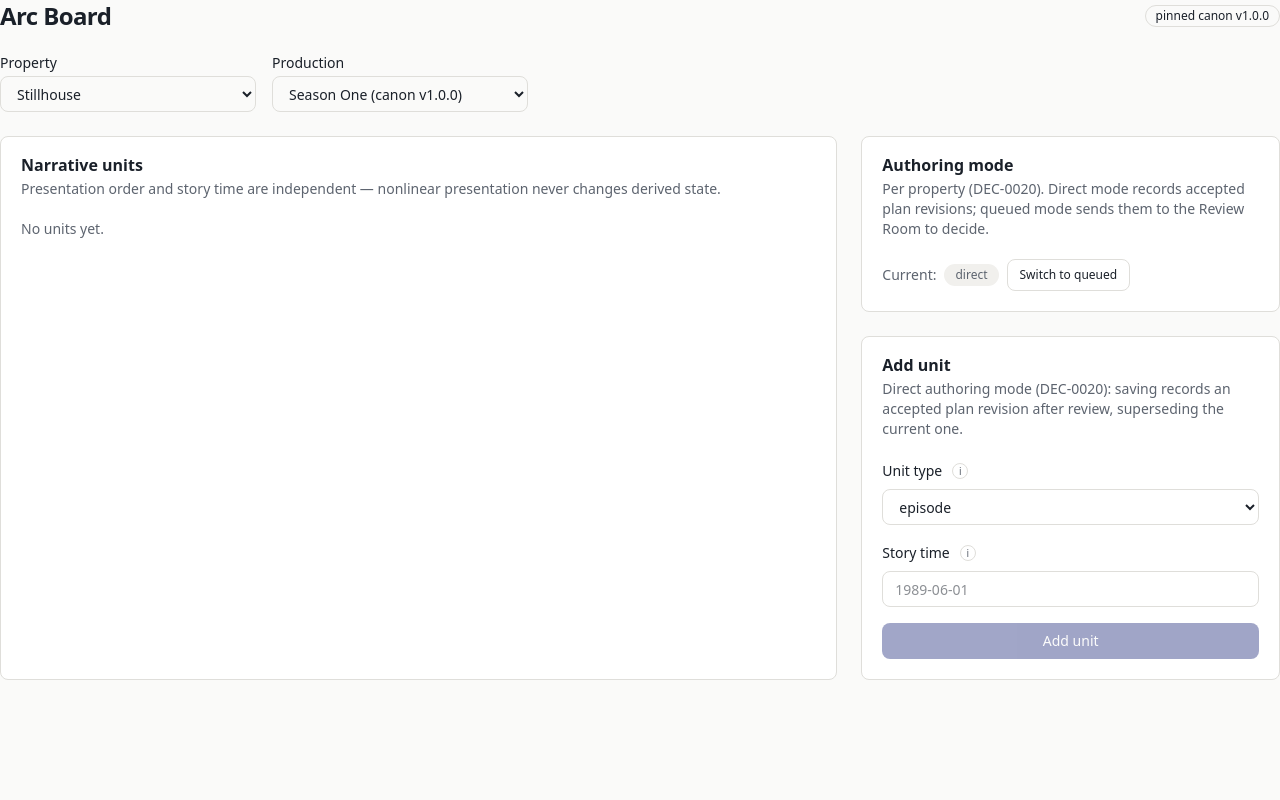
Scenario: Arc Board › a refresh failure after a recorded append is surfaced, not swallowed (SF3)
Type "1989-06-03" into the field labelled "Story time" at (1071,589), box [882,571,1259,607]
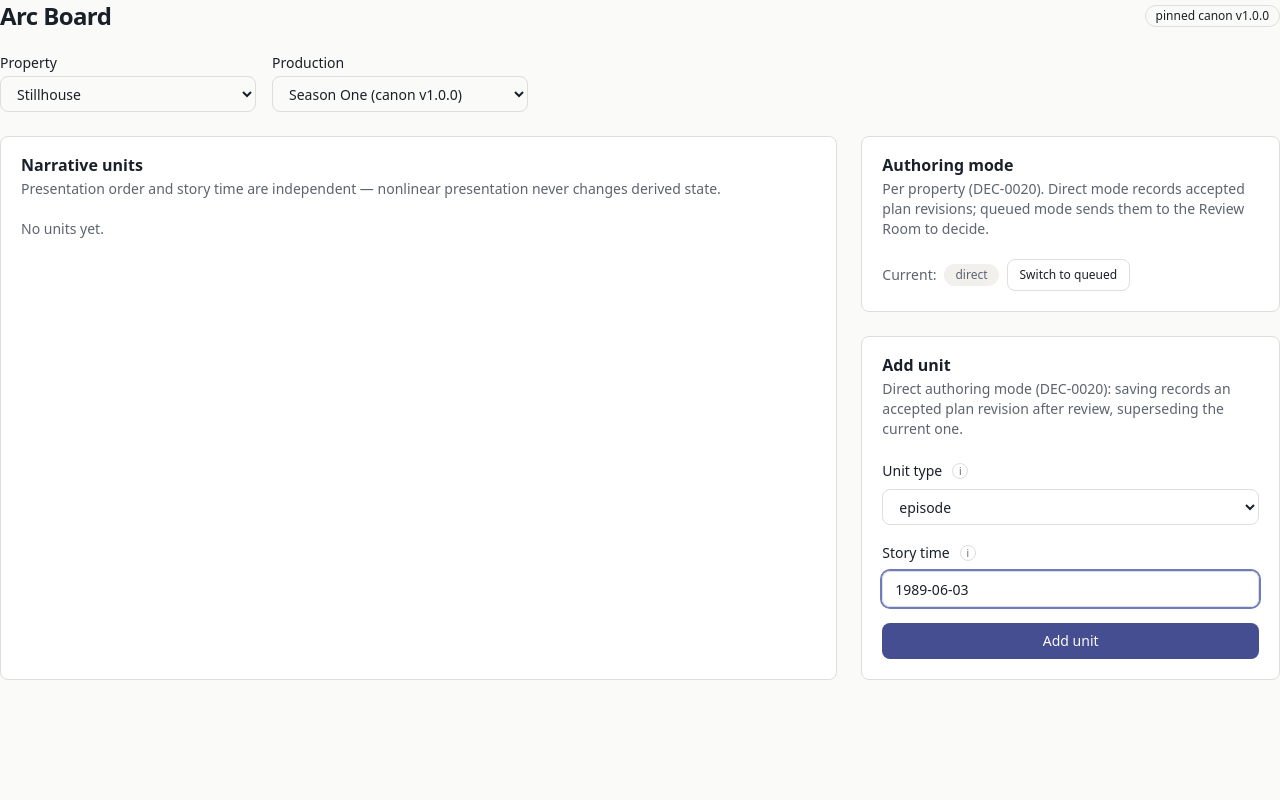
Click the button "Add unit" at (1071,641), box [882,623,1259,659]
(page scrolled)
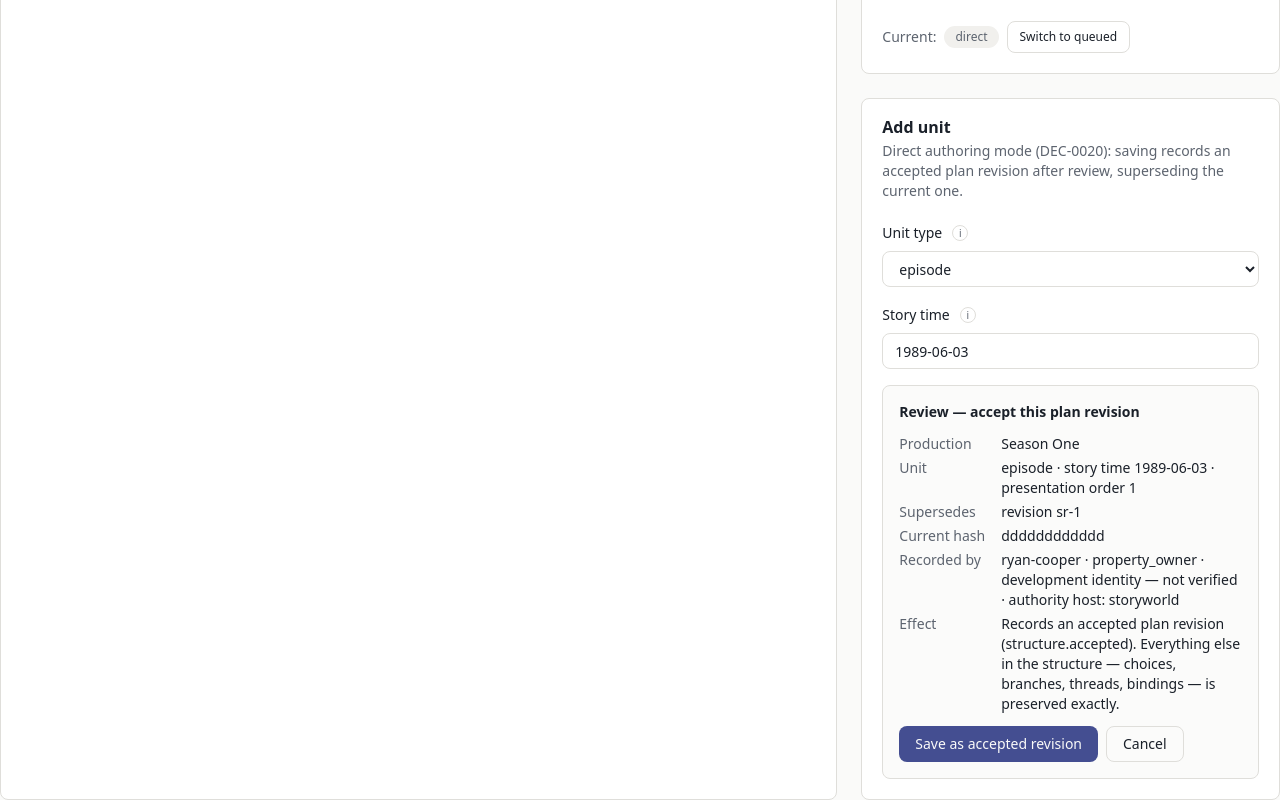
Click the button "Save as accepted revision" at (999,744), box [899,726,1098,762]
(page scrolled)
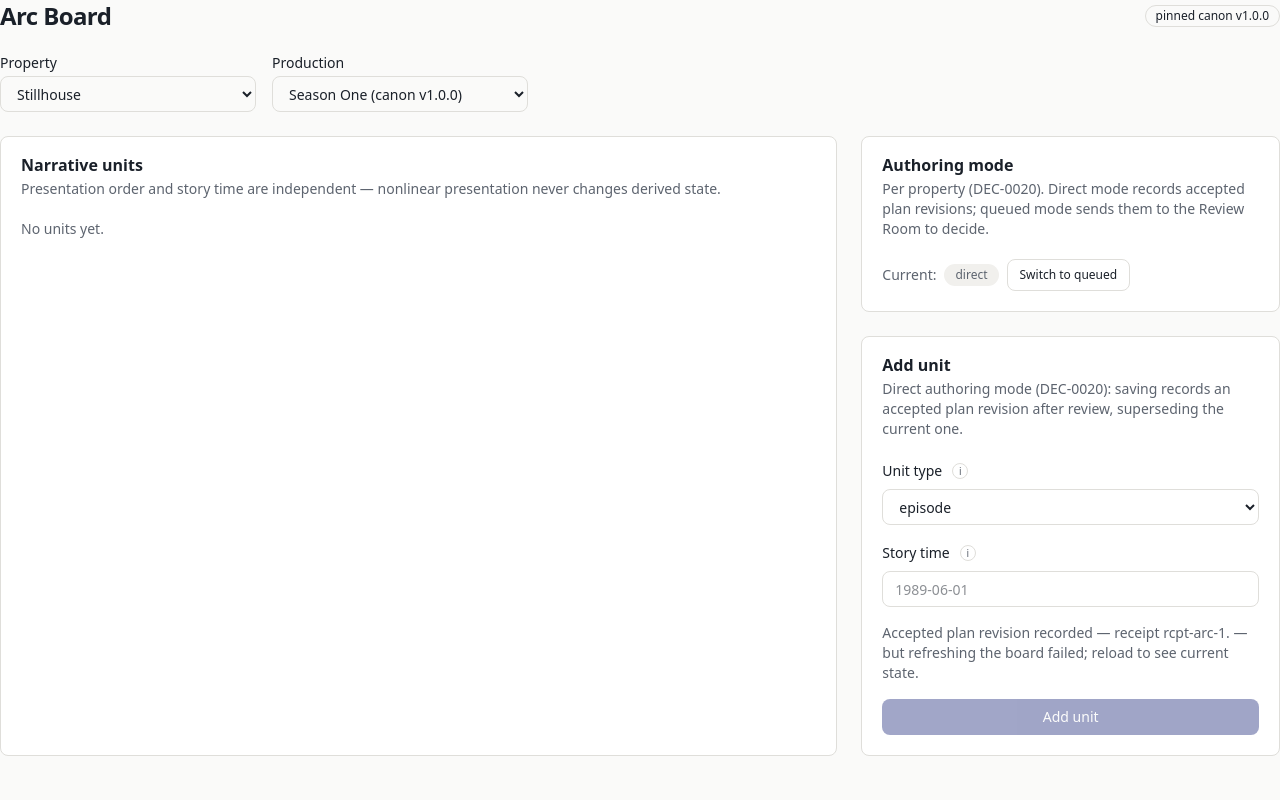
Now the text "receipt rcpt-arc-1" is shown, box [882,623,1248,682]
